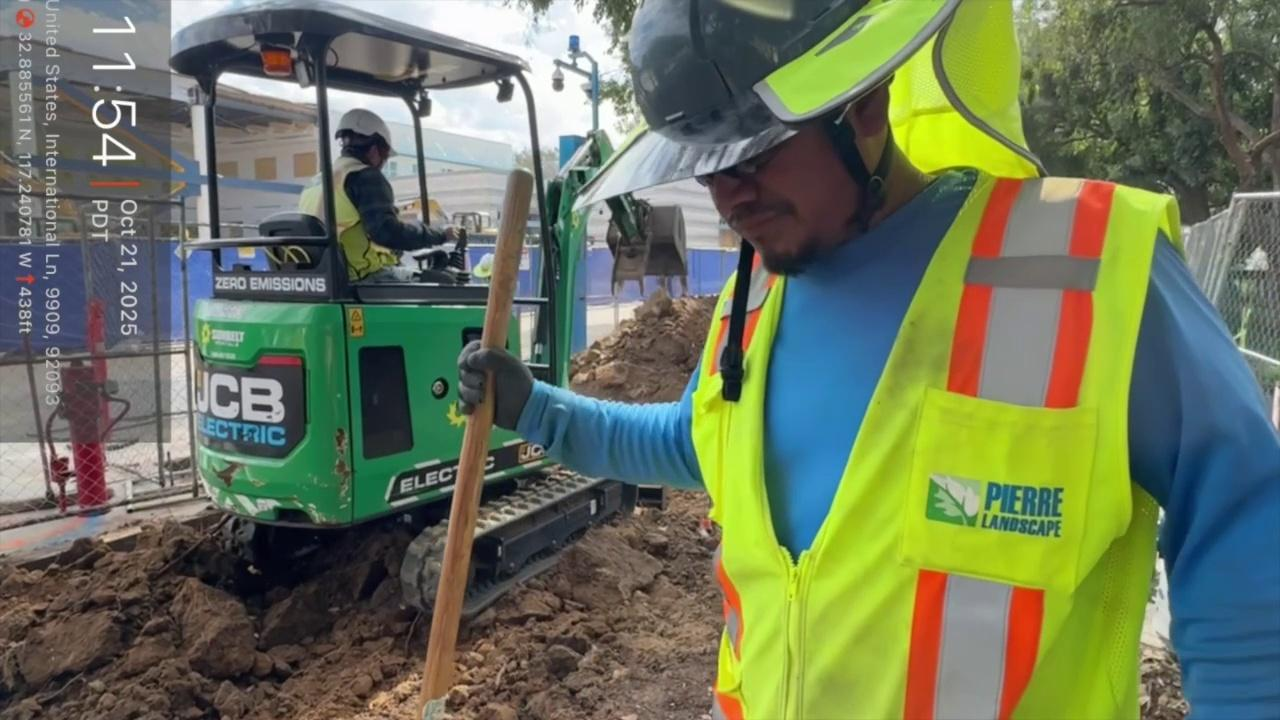Exacavator: (167, 1, 671, 623)
